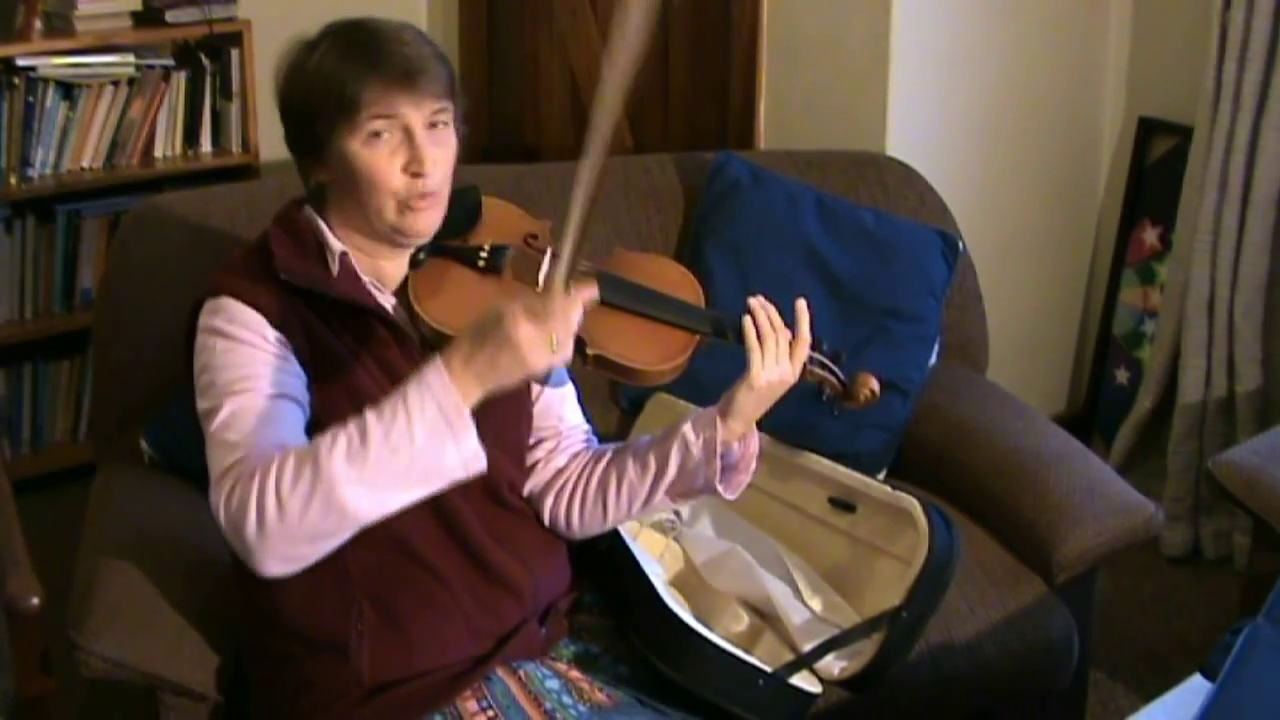person: (187, 16, 813, 720)
